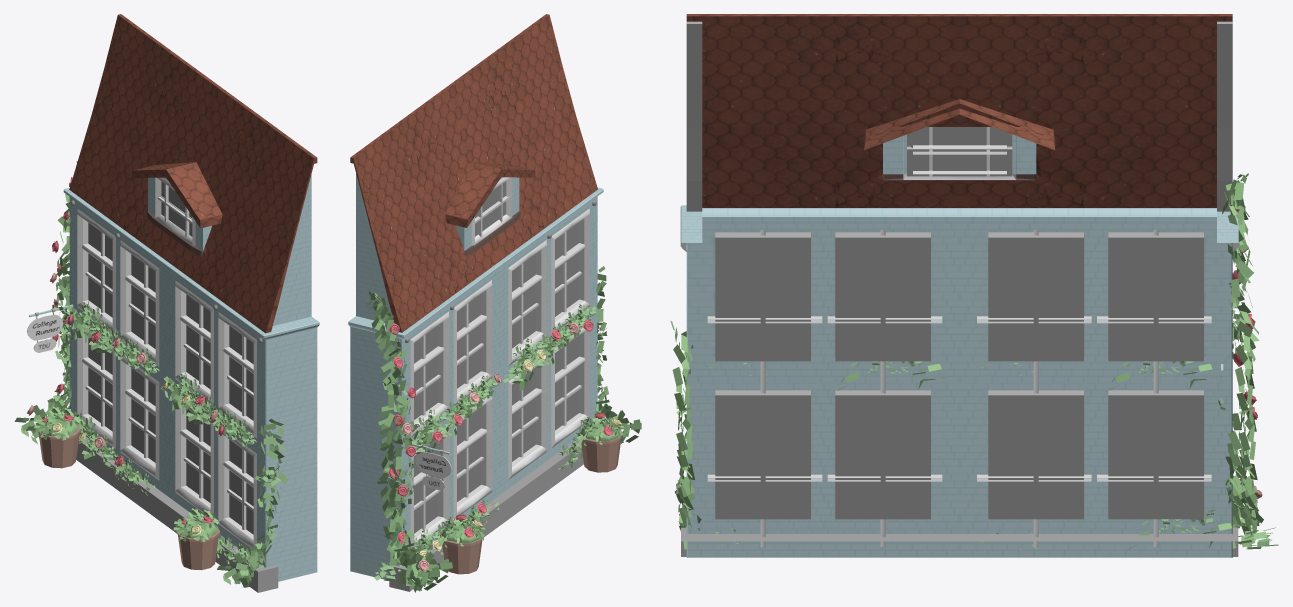
The model's file is Back_House_A.fbx.
3 renders of one model, left to right at view 1: azimuth 30°, elevation 25°; view 2: azimuth 150°, elevation 25°; view 3: azimuth 270°, elevation 25°, orthographic. The views are drawn at different scales.
Parts seen in each view (by area): view 1: pCube3 (×2), pCube9 (×8), dodai_A, polySurface3 (×7), polySurface315, pCube7 (×2), polySurface296 (×2), polySurface261, house2_madowaku_G1_pCube67, pCylinder20, polySurface262, polySurface287 (+7 smaller); view 2: pCube3 (×2), pCube9 (×8), polySurface261, dodai_A, polySurface3 (×7), pCube7 (×2), polySurface296 (×2), polySurface315, polySurface262, polySurface297 (×2), house2_madowaku_G1_pCube67, pCylinder20 (+4 smaller); view 3: pCube3 (×2), polySurface261, dodai_A, polySurface3 (×4), pCube7 (×2), polySurface315, house2_madowaku_G1_pCube67, polySurface262.
Boxes of the visible parts, bbox=[...] form: pCube3 (×2): bbox=[63, 14, 319, 581]; pCube9 (×8): bbox=[77, 209, 256, 547]; dodai_A: bbox=[76, 437, 278, 592]; polySurface3 (×7): bbox=[85, 232, 253, 529]; polySurface315: bbox=[217, 419, 288, 587]; pCube7 (×2): bbox=[131, 162, 222, 228]; polySurface296 (×2): bbox=[37, 424, 219, 570]; polySurface261: bbox=[14, 161, 77, 436]; house2_madowaku_G1_pCube67: bbox=[155, 177, 195, 245]; pCylinder20: bbox=[27, 314, 63, 340]; polySurface262: bbox=[26, 340, 71, 443]; polySurface287: bbox=[217, 413, 256, 446]; pCube3 (×2): bbox=[348, 14, 603, 579]; pCube9 (×8): bbox=[410, 209, 589, 547]; polySurface261: bbox=[366, 291, 439, 592]; dodai_A: bbox=[389, 439, 583, 591]; polySurface3 (×7): bbox=[415, 231, 581, 497]; pCube7 (×2): bbox=[445, 162, 535, 227]; polySurface296 (×2): bbox=[440, 430, 622, 574]; polySurface315: bbox=[594, 266, 641, 443]; polySurface262: bbox=[388, 484, 452, 586]; polySurface297 (×2): bbox=[442, 420, 621, 543]; house2_madowaku_G1_pCube67: bbox=[471, 177, 512, 245]; pCylinder20: bbox=[415, 452, 451, 477]; pCube3 (×2): bbox=[680, 14, 1238, 557]; polySurface261: bbox=[1222, 173, 1263, 549]; dodai_A: bbox=[681, 527, 1238, 556]; polySurface3 (×4): bbox=[707, 229, 1211, 388]; pCube7 (×2): bbox=[864, 99, 1055, 150]; polySurface315: bbox=[670, 321, 701, 549]; house2_madowaku_G1_pCube67: bbox=[903, 136, 1016, 179]; polySurface262: bbox=[1225, 413, 1247, 548].
Size of the model in its own units: 176 by 646 by 611.
